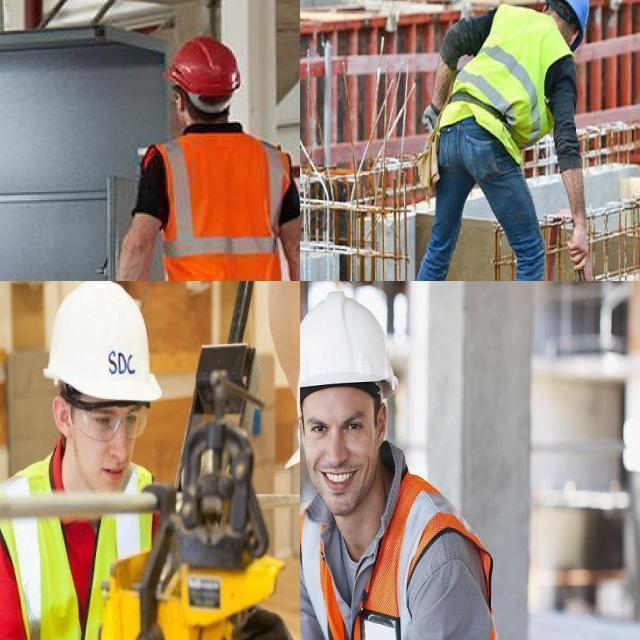No_Ear-Protection: (370, 393, 392, 450), (49, 390, 70, 441)
face_nomask: (300, 381, 379, 515), (67, 392, 144, 496)
glasses: (68, 392, 148, 447)
hand_glove: (232, 604, 300, 640), (419, 100, 442, 135)
hand_noglove: (567, 217, 597, 273)
head_helmet: (47, 281, 160, 402), (300, 286, 399, 397), (163, 34, 240, 99), (545, 0, 591, 47)
person: (300, 285, 519, 640), (0, 281, 176, 640), (406, 0, 615, 281), (116, 37, 300, 281)
vest: (300, 482, 517, 640), (0, 466, 164, 640), (140, 129, 291, 281), (436, 1, 562, 155)
